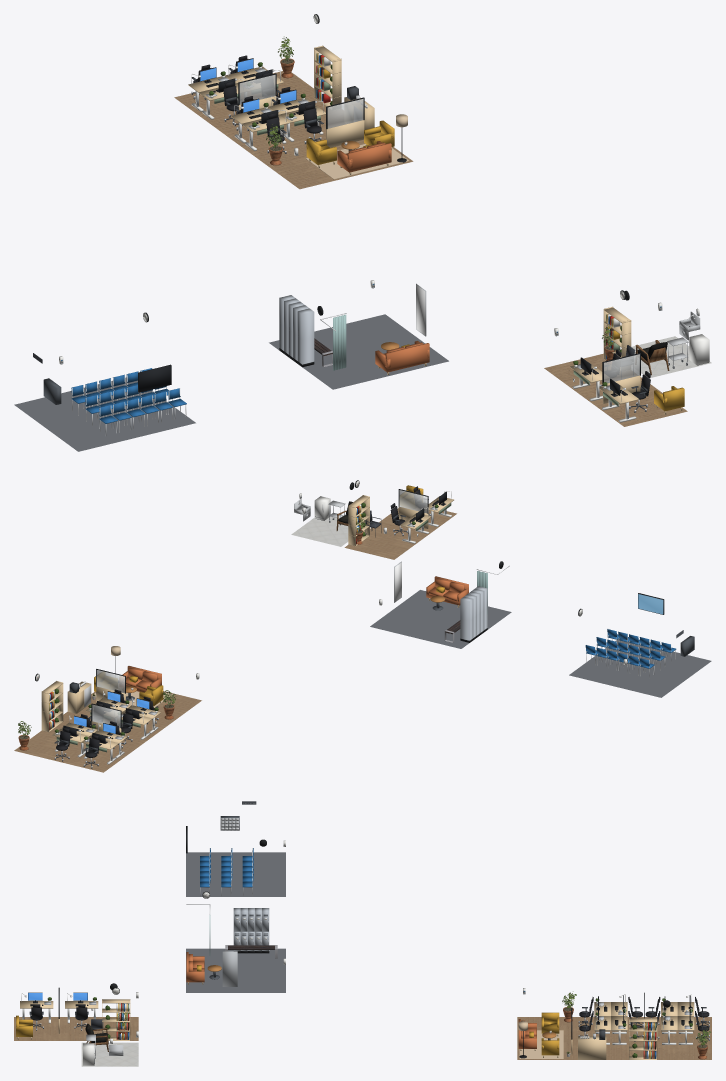
File: 18_n2_academico_y_oficinas.glb
3 renders of one model, top to bottom at view 1: azimuth 30°, elevation 25°; view 2: azimuth 150°, elevation 25°; view 3: azimuth 270°, elevation 25°, orthographic. The views are drawn at different scales.
Visible parts, largest first — view 1: piso · Sala de espera y aislamiento OSCE, piso · Multioficinas y cubículos · 12 puestos compartidos, piso · Sala de pacientes estandarizados · vestidor y estar, mampara_escritorio (×3), escritorio_ergonomico (×4), librero_madera (×2), piso · Coordinación y administración · oficina compartida, sofa_oficina (×2), piso · Lactario, locker_columna, mesa_cafe_oficina, cortina_vestidor (+2 smaller); view 2: piso · Sala de espera y aislamiento OSCE, piso · Multioficinas y cubículos · 12 puestos compartidos, piso · Sala de pacientes estandarizados · vestidor y estar, mampara_escritorio (×3), piso · Coordinación y administración · oficina compartida, librero_madera (×2), sofa_oficina (×2), piso · Lactario, mesa_cafe_oficina, locker_columna, escritorio_ergonomico; view 3: piso · Multioficinas y cubículos · 12 puestos compartidos, piso · Sala de espera y aislamiento OSCE, piso · Sala de pacientes estandarizados · vestidor y estar, librero_madera (×2), piso · Coordinación y administración · oficina compartida, piso · Lactario, sofa_oficina (×2), escritorio_ergonomico (×2), mesa_cafe_oficina, tapete de la zona de descanso, espejo_cuerpo.
Part boxes in pixels (x1,y1,x2,y2): piso · Sala de espera y aislamiento OSCE: (14, 377, 195, 451); piso · Multioficinas y cubículos · 12 puestos compartidos: (174, 71, 413, 189); piso · Sala de pacientes estandarizados · vestidor y estar: (269, 314, 448, 389); mampara_escritorio (×3): (238, 73, 640, 403); escritorio_ergonomico (×4): (188, 67, 638, 422); librero_madera (×2): (314, 45, 631, 371); piso · Coordinación y administración · oficina compartida: (544, 353, 687, 426); sofa_oficina (×2): (337, 141, 429, 374); piso · Lactario: (631, 336, 711, 377); locker_columna: (297, 308, 314, 367); mesa_cafe_oficina: (344, 86, 374, 129); cortina_vestidor: (320, 313, 346, 370); piso · Sala de espera y aislamiento OSCE: (569, 639, 711, 697); piso · Multioficinas y cubículos · 12 puestos compartidos: (14, 691, 201, 772); piso · Sala de pacientes estandarizados · vestidor y estar: (370, 590, 511, 648); mampara_escritorio (×3): (91, 489, 428, 732); piso · Coordinación y administración · oficina compartida: (344, 507, 456, 559); librero_madera (×2): (41, 495, 369, 732); sofa_oficina (×2): (120, 576, 468, 692); piso · Lactario: (291, 516, 360, 546); mesa_cafe_oficina: (67, 681, 91, 713); locker_columna: (460, 596, 473, 642); escritorio_ergonomico: (400, 507, 431, 543); piso · Multioficinas y cubículos · 12 puestos compartidos: (517, 1017, 711, 1059); piso · Sala de espera y aislamiento OSCE: (186, 852, 285, 896); piso · Sala de pacientes estandarizados · vestidor y estar: (186, 948, 285, 992); librero_madera (×2): (102, 999, 657, 1059); piso · Coordinación y administración · oficina compartida: (14, 1017, 138, 1040); piso · Lactario: (81, 1042, 138, 1066); sofa_oficina (×2): (186, 952, 536, 1050); escritorio_ergonomico (×2): (20, 992, 98, 1023); mesa_cafe_oficina: (578, 1029, 606, 1059); tapete de la zona de descanso: (519, 1030, 563, 1058); espejo_cuerpo: (222, 951, 237, 986).
Bounding box in the file's own units: 21.58 × 2.76 × 29.4.
52 materials, 11 textured.
